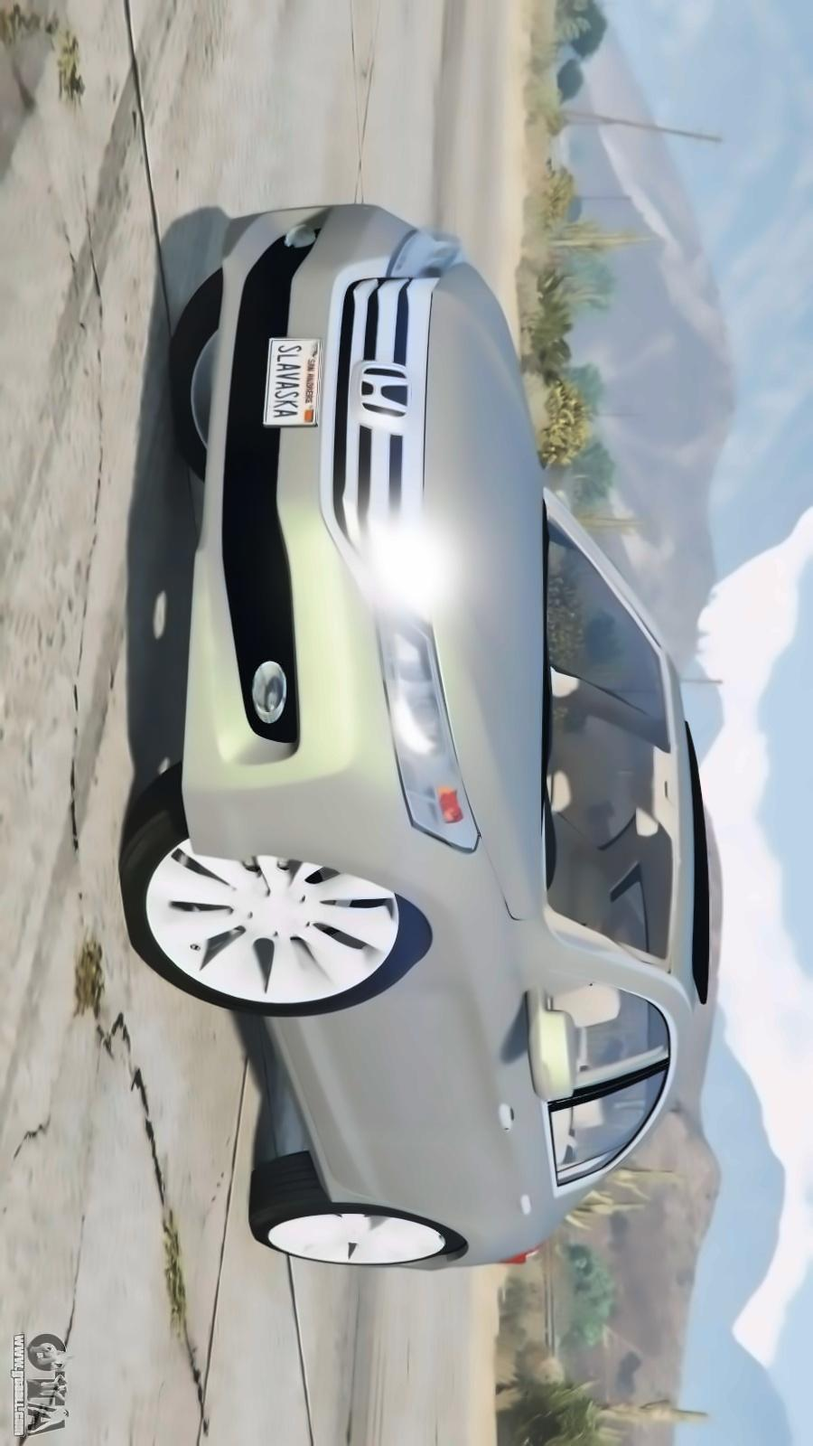Car hood: (406, 228, 579, 937)
Fender - -F-L-: (233, 838, 593, 1034)
Front bumper: (149, 190, 454, 875)
Headlight - -L-: (366, 594, 477, 863)
Headlight - -R-: (373, 204, 475, 295)
Passenger-s door - -F-L-: (234, 936, 741, 1174)
Passenger-s door - -R-L-: (276, 1051, 730, 1210)
Side bumper - -L-: (249, 994, 432, 1220)
Side mirror - -L-: (508, 981, 581, 1112)
